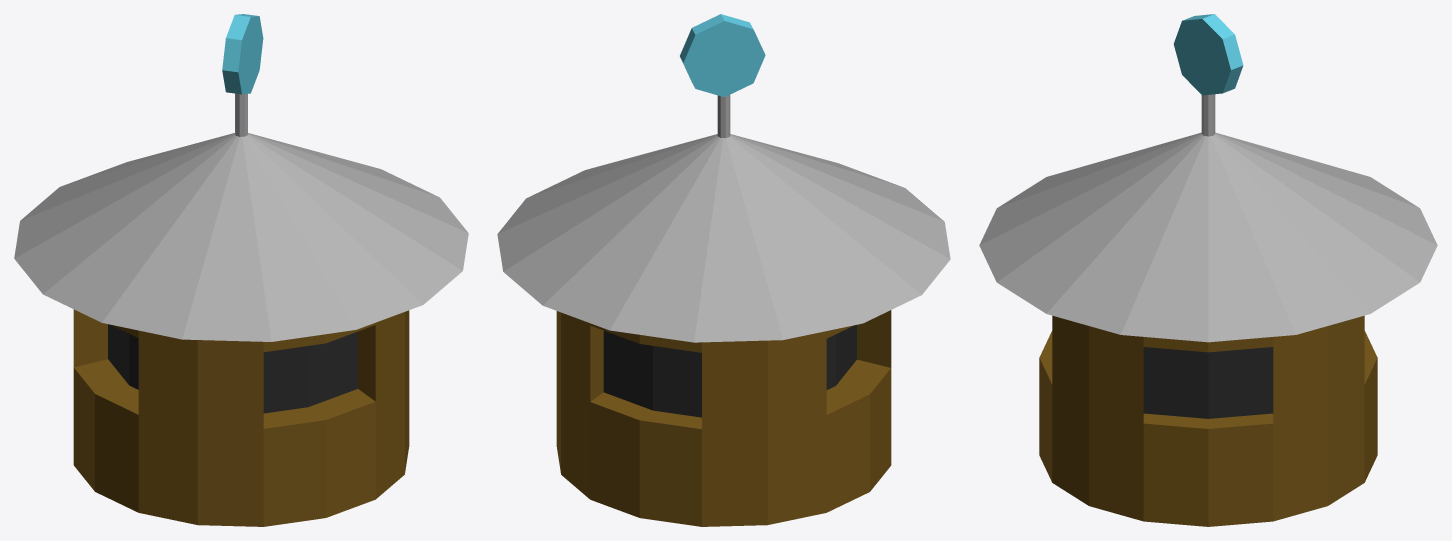
File: Info.fbx
3 views of the same model, side by side, from view 1: azimuth 30°, elevation 25°; view 2: azimuth 150°, elevation 25°; view 3: azimuth 270°, elevation 25° (orthographic).
Visible parts, largest first — view 1: Cylinder.002; view 2: Cylinder.002; view 3: Cylinder.002.
Boxes of the visible parts, x1,y1,x2,y2 form: Cylinder.002: [14, 14, 468, 526]; Cylinder.002: [497, 14, 950, 526]; Cylinder.002: [979, 14, 1437, 526].
Bounding box in the file's own units: 542 × 574 × 542.
